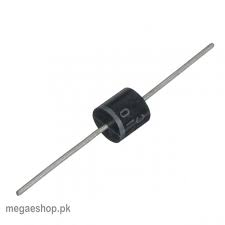diode: (68, 65, 161, 157)
